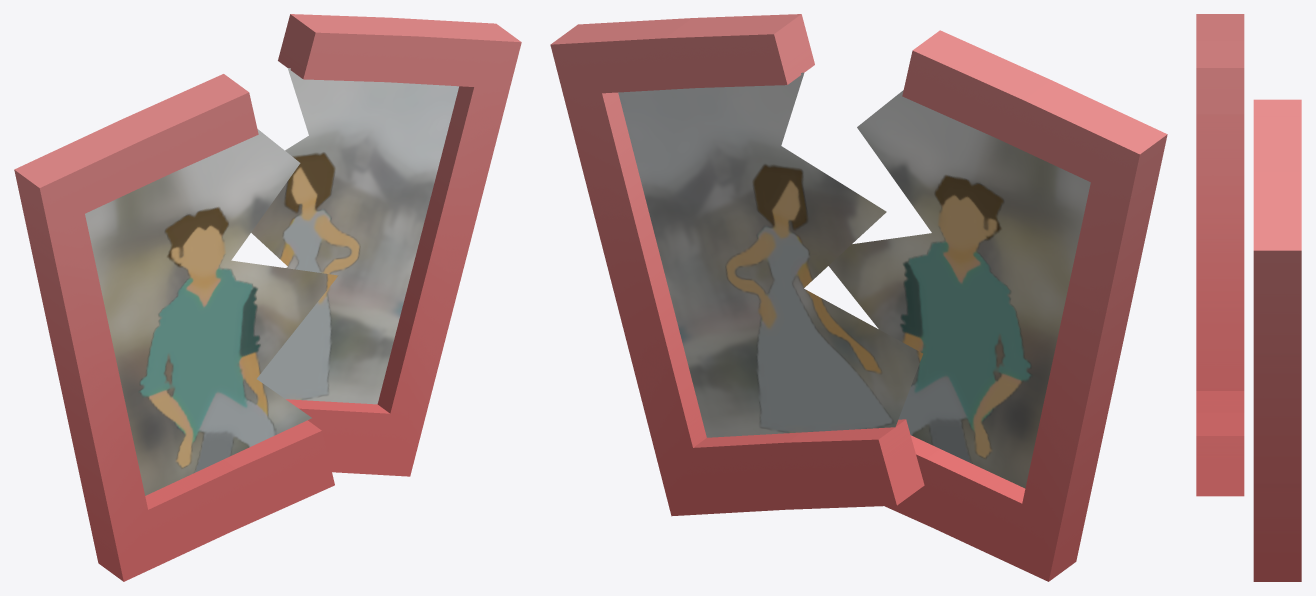
The model's file is Retrato Roto.obj.
3 renders of one model, left to right at view 1: azimuth 30°, elevation 25°; view 2: azimuth 150°, elevation 25°; view 3: azimuth 270°, elevation 25°, orthographic. The views are drawn at different scales.
Parts seen in each view (by area): view 1: Retrato Roto.obj; view 2: Retrato Roto.obj; view 3: Retrato Roto.obj.
Part boxes in pixels (x1=…): Retrato Roto.obj: x1=14, y1=14, x2=521, y2=581; Retrato Roto.obj: x1=550, y1=14, x2=1167, y2=581; Retrato Roto.obj: x1=1196, y1=14, x2=1301, y2=581.
Size of the model in its own units: 5.81 by 5.12 by 1.1.
